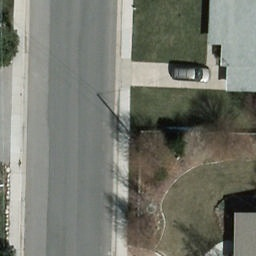car: (170, 66, 213, 83)
